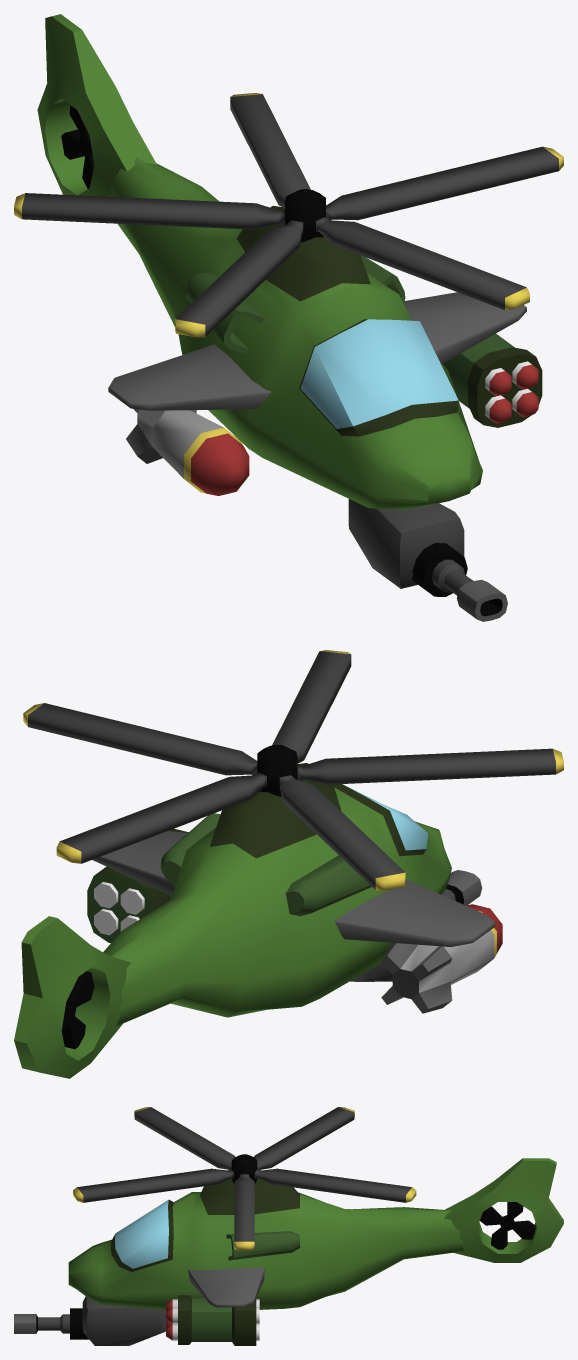
File: Helicopter 2.fbx
The picture shows the model from 3 angles, top to bottom: view 1: azimuth 30°, elevation 25°; view 2: azimuth 150°, elevation 25°; view 3: azimuth 270°, elevation 25°; orthographic projection. The views are drawn at different scales.
Parts seen in each view (by area): view 1: Plane.075, Cylinder.498, Cube.451, Cylinder.499, Cylinder.497, Cube.448, Cube.449, Cylinder.495, Cylinder.496, Cube.450, Cylinder.500; view 2: Plane.075, Cylinder.498, Cylinder.499, Cube.451, Cylinder.497, Cube.450, Cube.449, Cylinder.496, Cylinder.500, Cylinder.495; view 3: Plane.075, Cylinder.498, Cylinder.499, Cube.449, Cube.448, Cube.451, Cylinder.495, Cylinder.500, Cube.450, Cylinder.496.
Part boxes in pixels (x1=…): Plane.075: x1=108, y1=157, x2=482, y2=509; Cylinder.498: x1=14, y1=93, x2=563, y2=337; Cube.451: x1=108, y1=292, x2=526, y2=410; Cylinder.499: x1=37, y1=14, x2=156, y2=196; Cylinder.497: x1=126, y1=409, x2=249, y2=495; Cube.448: x1=348, y1=499, x2=464, y2=588; Cube.449: x1=443, y1=333, x2=542, y2=427; Cylinder.495: x1=412, y1=543, x2=507, y2=621; Cylinder.496: x1=485, y1=361, x2=538, y2=423; Cube.450: x1=186, y1=255, x2=405, y2=354; Cylinder.500: x1=61, y1=105, x2=94, y2=188; Plane.075: x1=103, y1=763, x2=451, y2=1025; Cylinder.498: x1=23, y1=650, x2=563, y2=890; Cylinder.499: x1=14, y1=916, x2=131, y2=1078; Cube.451: x1=92, y1=831, x2=495, y2=946; Cylinder.497: x1=381, y1=904, x2=502, y2=1013; Cube.450: x1=160, y1=813, x2=371, y2=916; Cube.449: x1=87, y1=828, x2=188, y2=943; Cylinder.496: x1=94, y1=882, x2=144, y2=935; Cylinder.500: x1=61, y1=971, x2=94, y2=1049; Cylinder.495: x1=442, y1=870, x2=482, y2=905; Plane.075: x1=68, y1=1178, x2=464, y2=1309; Cylinder.498: x1=73, y1=1107, x2=416, y2=1250; Cylinder.499: x1=444, y1=1158, x2=563, y2=1262; Cube.449: x1=178, y1=1295, x2=256, y2=1345; Cube.448: x1=82, y1=1296, x2=165, y2=1345; Cube.451: x1=188, y1=1267, x2=264, y2=1307; Cylinder.495: x1=14, y1=1308, x2=88, y2=1339; Cylinder.500: x1=480, y1=1202, x2=535, y2=1249; Cube.450: x1=226, y1=1231, x2=300, y2=1260; Cylinder.496: x1=166, y1=1299, x2=259, y2=1340.
Size of the model in its own units: 1248 by 770 by 2104.
